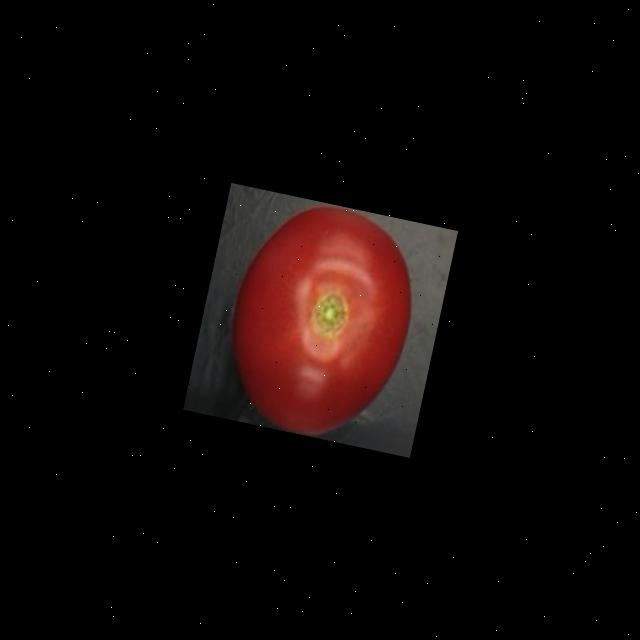tomato: (207, 188, 434, 452)
